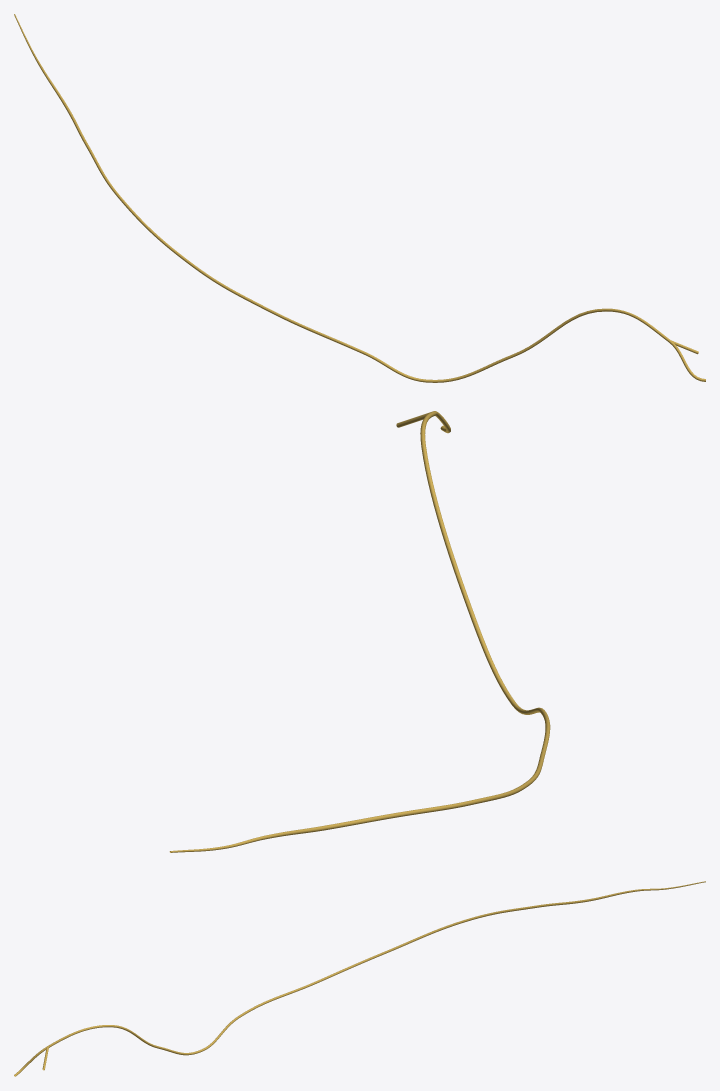
The picture shows the model from 3 angles, top to bottom: view 1: azimuth 30°, elevation 25°; view 2: azimuth 150°, elevation 25°; view 3: azimuth 270°, elevation 25°; orthographic projection. The views are drawn at different scales.
Parts seen in each view (by area): view 1: 右侧胸长神经; view 2: 右侧胸长神经; view 3: 右侧胸长神经.
Part boxes in pixels (x1=…): 右侧胸长神经: x1=14, y1=14, x2=705, y2=382; 右侧胸长神经: x1=169, y1=411, x2=550, y2=852; 右侧胸长神经: x1=14, y1=881, x2=705, y2=1076.
Size of the model in its own units: 0.1778 by 0.0885 by 0.4237.
